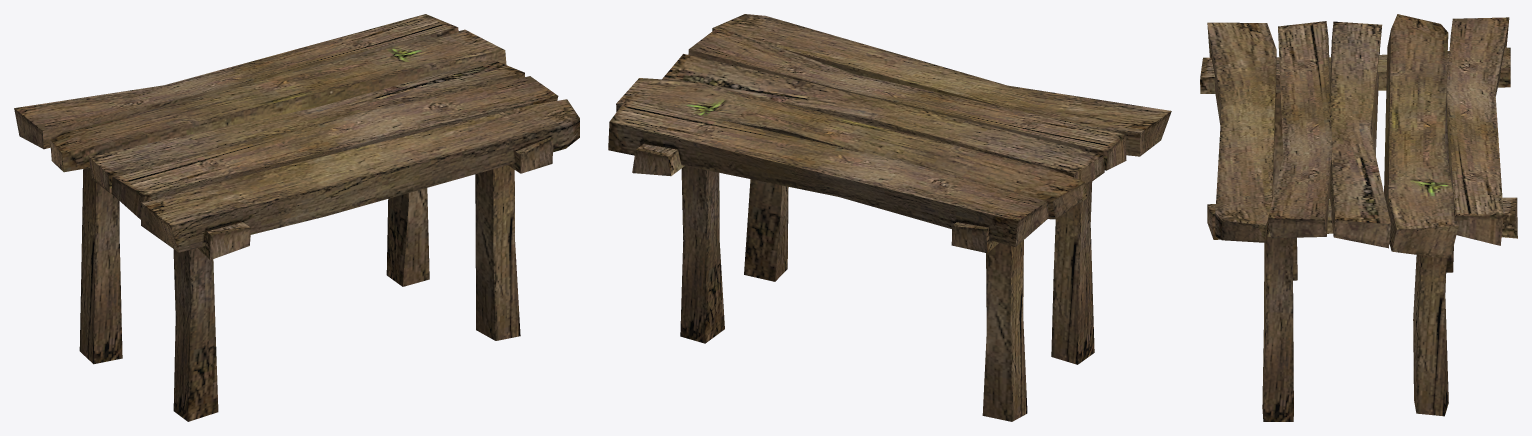
Rendered from Table.fbx.
3 views of the same model, side by side, from view 1: azimuth 30°, elevation 25°; view 2: azimuth 150°, elevation 25°; view 3: azimuth 270°, elevation 25° (orthographic). The views are drawn at different scales.
Parts seen in each view (by area): view 1: LV_Common_Object_A_AssemblyWoodTable01_SM_CNH; view 2: LV_Common_Object_A_AssemblyWoodTable01_SM_CNH; view 3: LV_Common_Object_A_AssemblyWoodTable01_SM_CNH.
Boxes of the visible parts, bbox=[...] form: LV_Common_Object_A_AssemblyWoodTable01_SM_CNH: bbox=[14, 14, 579, 421]; LV_Common_Object_A_AssemblyWoodTable01_SM_CNH: bbox=[608, 14, 1171, 421]; LV_Common_Object_A_AssemblyWoodTable01_SM_CNH: bbox=[1200, 14, 1517, 421].
Bounding box in the file's own units: 0.4174 × 0.2123 × 0.2653.
Materials: 1 (1 with a texture image).
